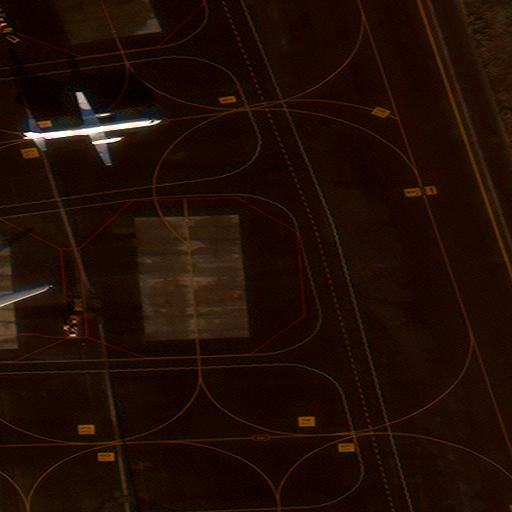Medium Civil Transport: (23, 90, 161, 164), (0, 259, 47, 329)
